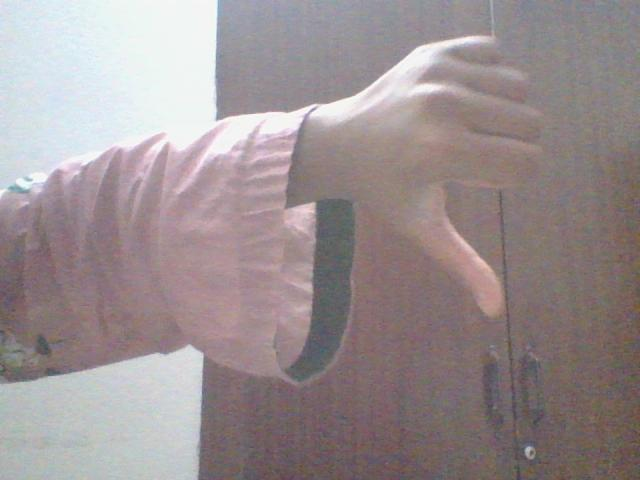thumbs-down: (372, 31, 559, 327)
